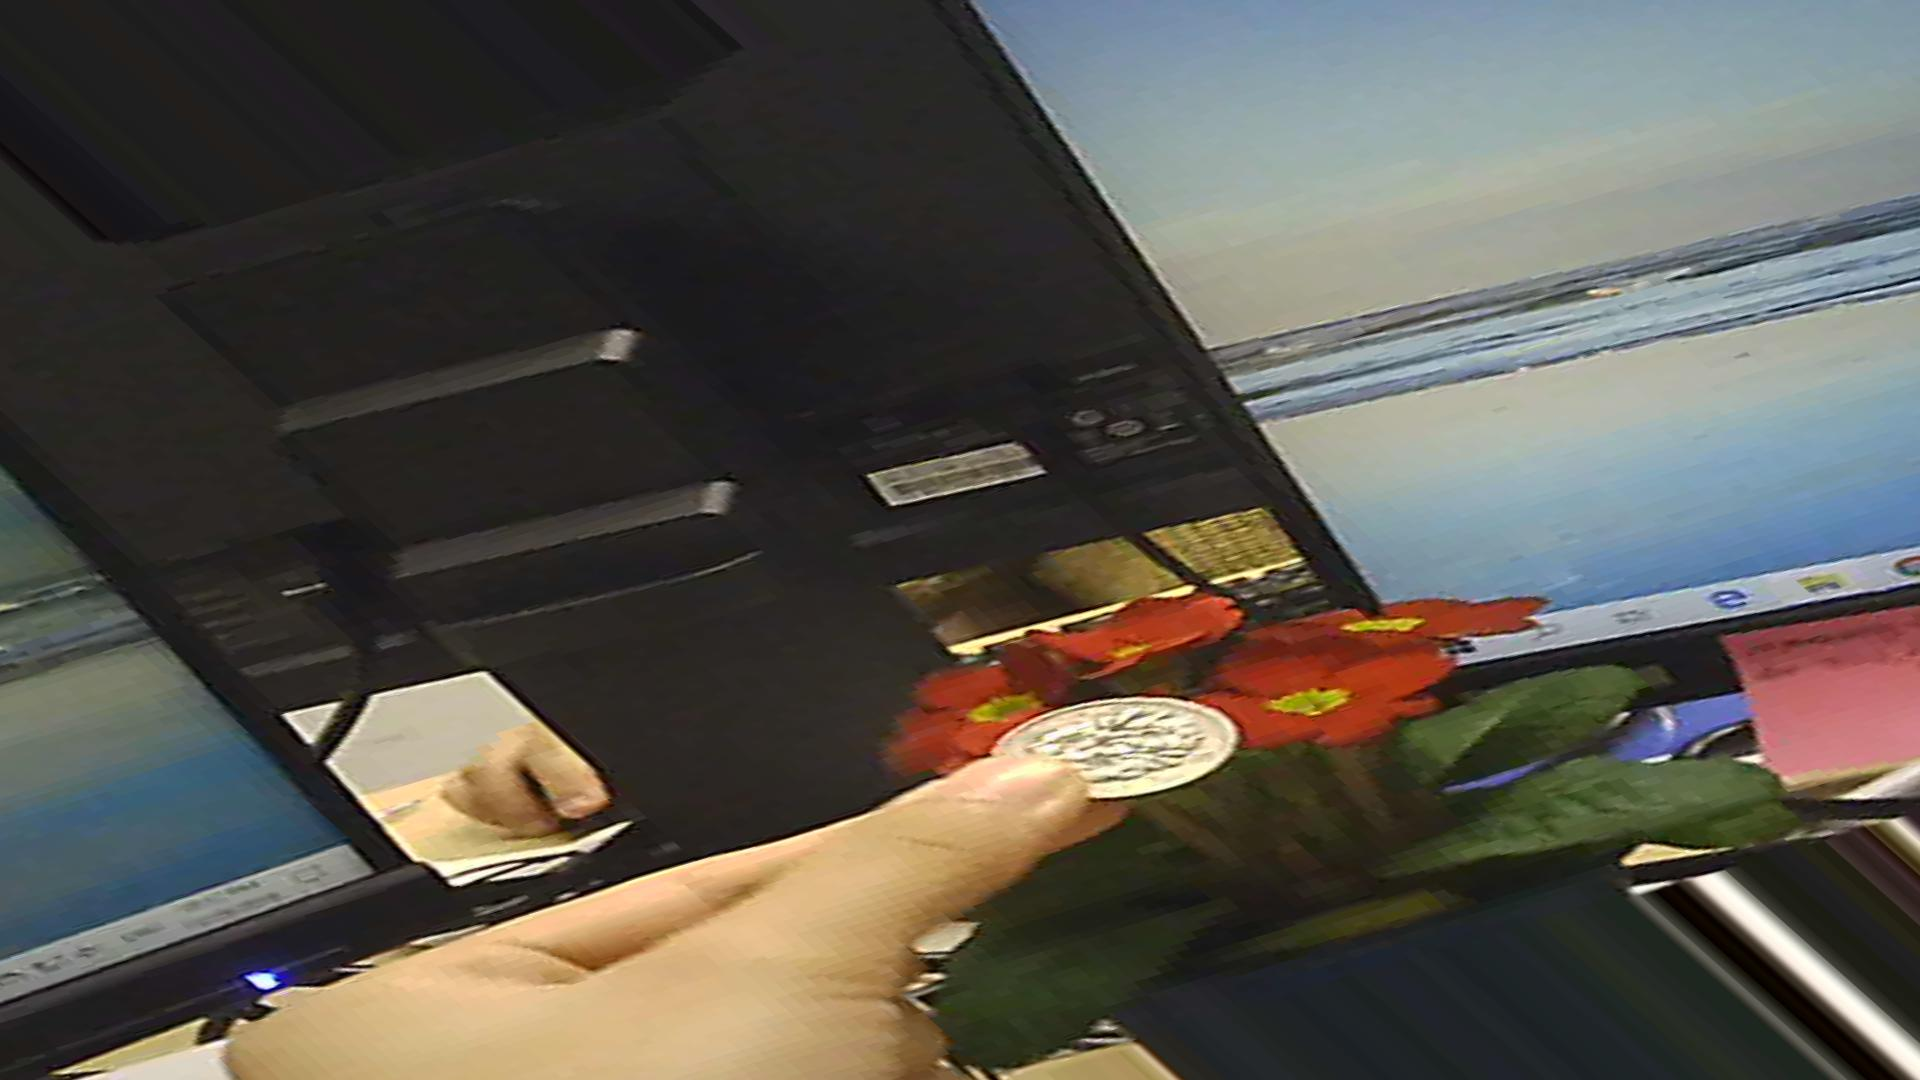100 Yen: (985, 692, 1240, 818)
